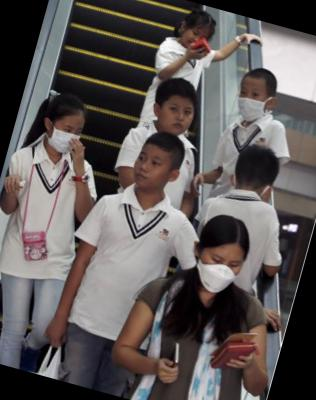with_mask: (191, 247, 246, 301), (232, 82, 272, 124), (45, 119, 86, 158)
without_mask: (128, 149, 171, 194), (155, 98, 198, 141), (177, 25, 212, 54)
